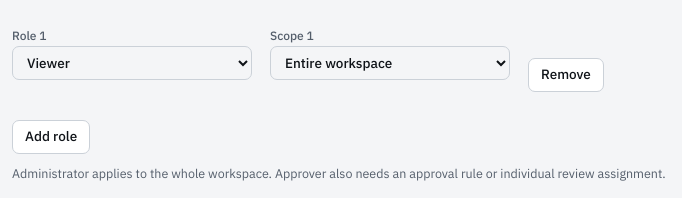
Test: keeps removal explicit instead of inserting a fallback role
This screenshot has width=682, height=198.
Click the button with aria-label "Remove role 1" at (566, 75), box [528, 58, 604, 92]
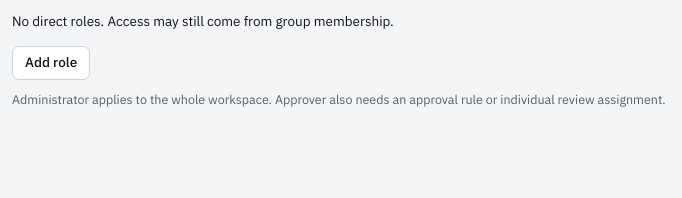
Check: the text "No direct roles" is shown, box [12, 12, 394, 30]
